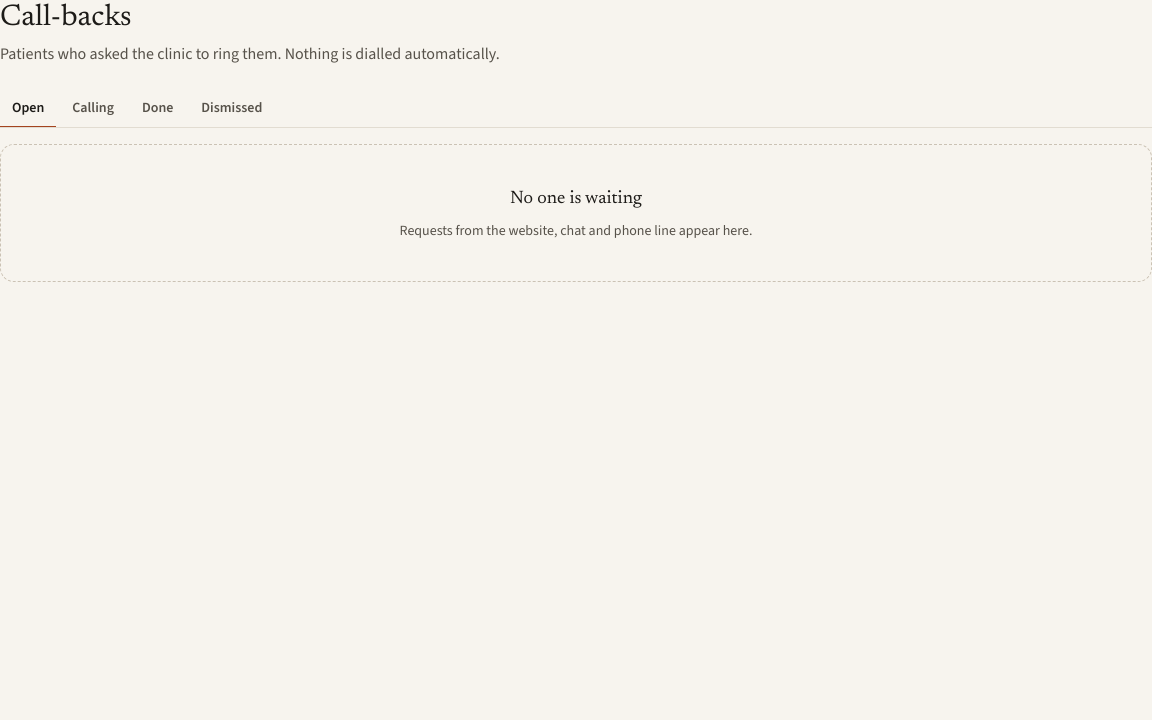
Test case: call outcomes and reopen › shows a refused reopen as a message and keeps the request
Step 1. Click the tab "Calling" → coordinates (93, 108), box [60, 90, 126, 128]
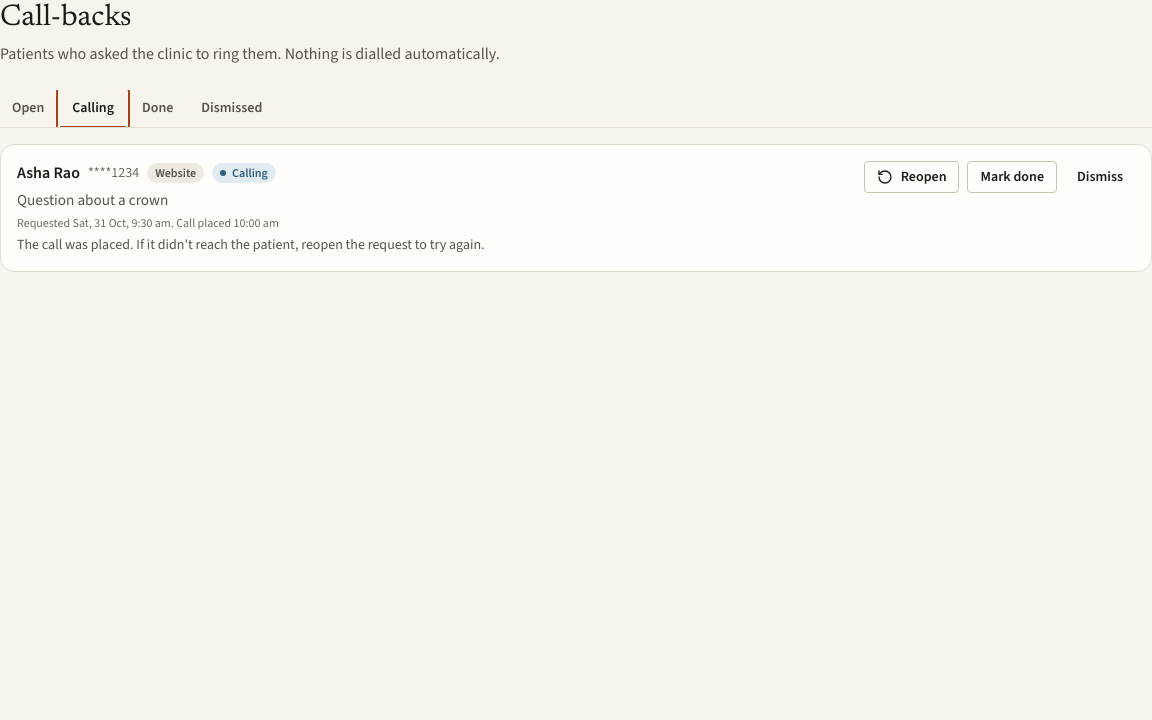
Result: the text "The call was placed. If it didn't reach the patient, reopen the request to try again." is shown at [17, 235, 484, 254]
Step 2. Click the button "Reopen" → coordinates (912, 176), box [864, 160, 960, 192]
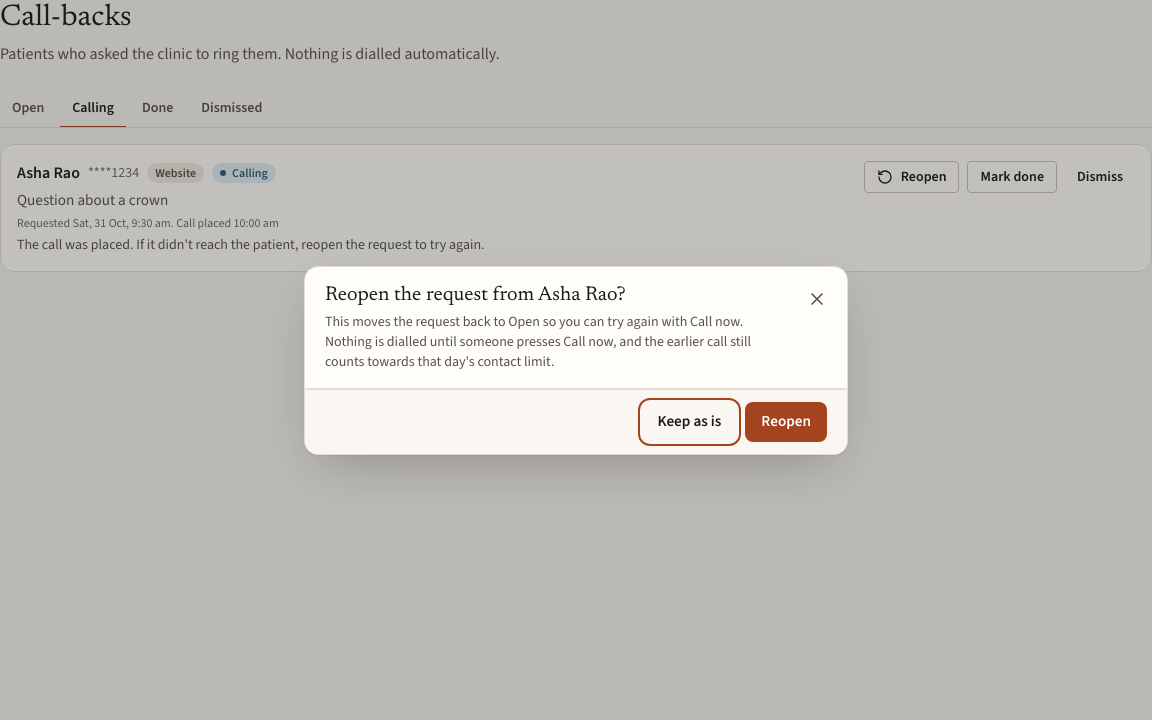
Step 3. Click the button "Reopen" → coordinates (786, 422), box [745, 402, 827, 442]
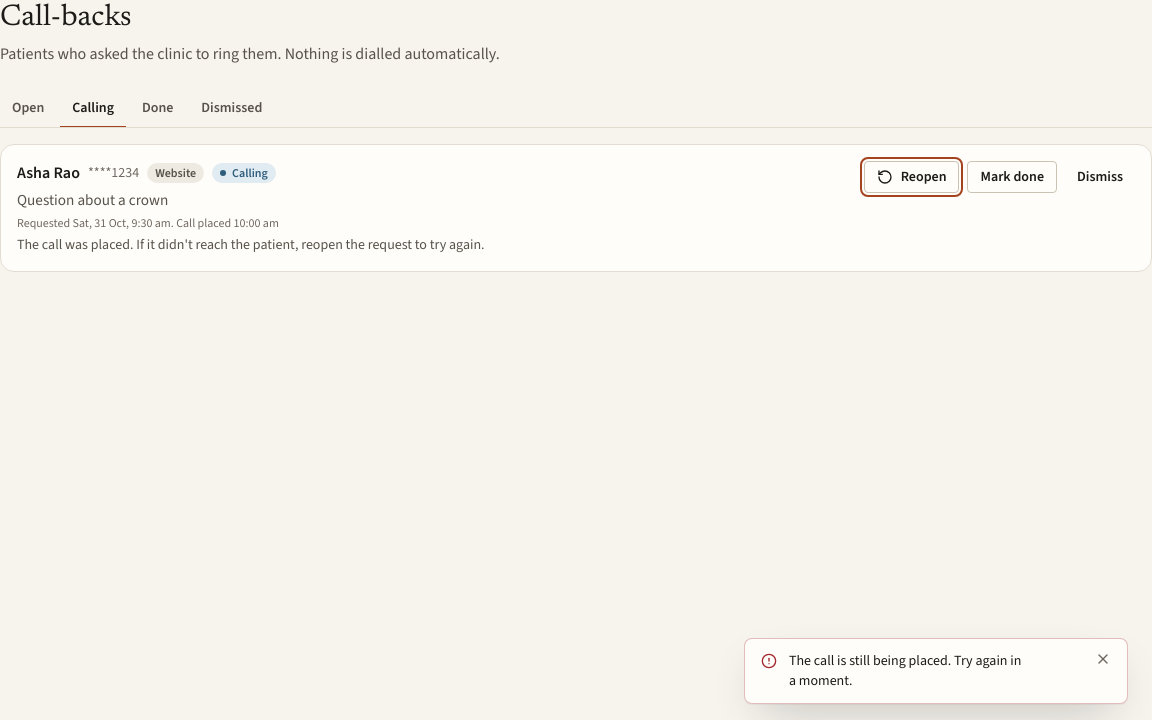
Result: the text "The call was placed. If it didn't reach the patient, reopen the request to try again." is shown at [17, 235, 484, 254]
Result: the text "The call is still being placed. Try again in a moment." is shown at [789, 651, 1021, 690]
